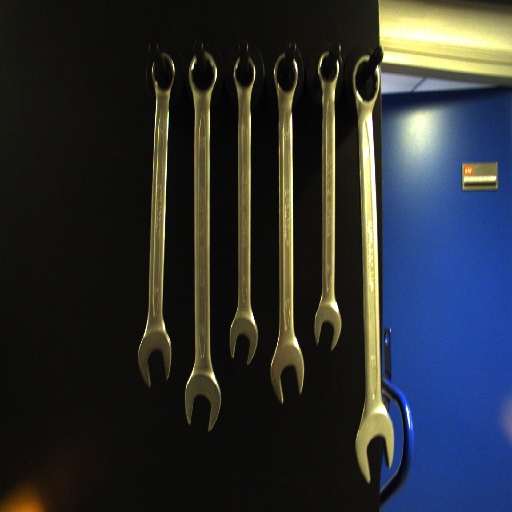bottom: (353, 407, 397, 485), (182, 372, 224, 431), (268, 345, 308, 406), (135, 330, 175, 389), (226, 316, 260, 366), (311, 304, 343, 352)
top: (350, 52, 382, 106), (187, 49, 219, 97), (269, 53, 300, 96), (148, 50, 178, 94), (230, 52, 257, 92), (315, 49, 342, 85)
